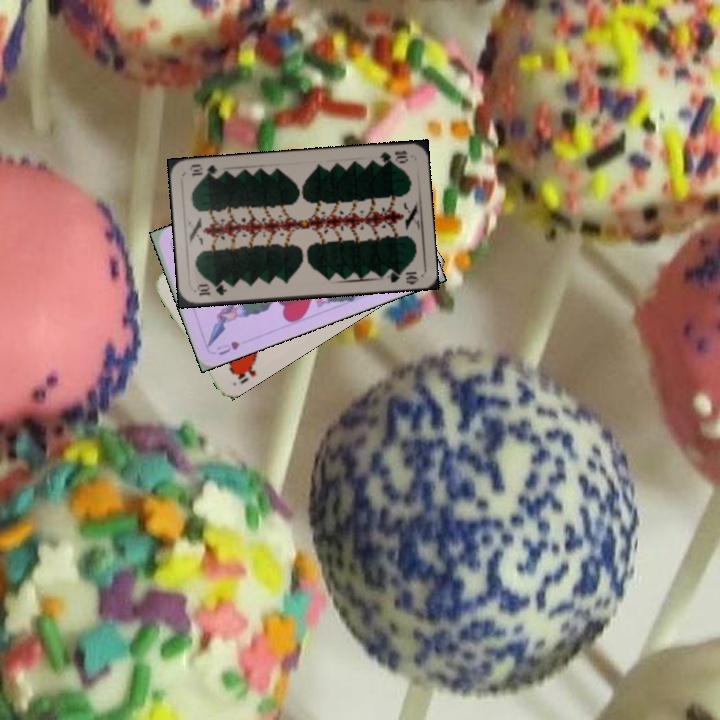G10: (193, 280, 229, 299), (376, 146, 410, 166)
HO: (229, 356, 260, 387)
HU: (213, 337, 242, 358)
